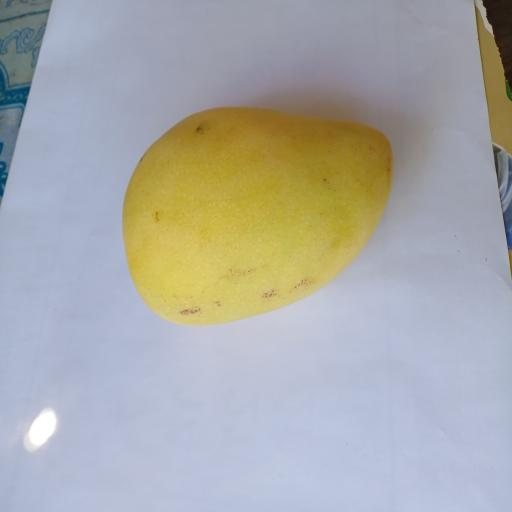mango-ripe: (95, 77, 411, 342)
